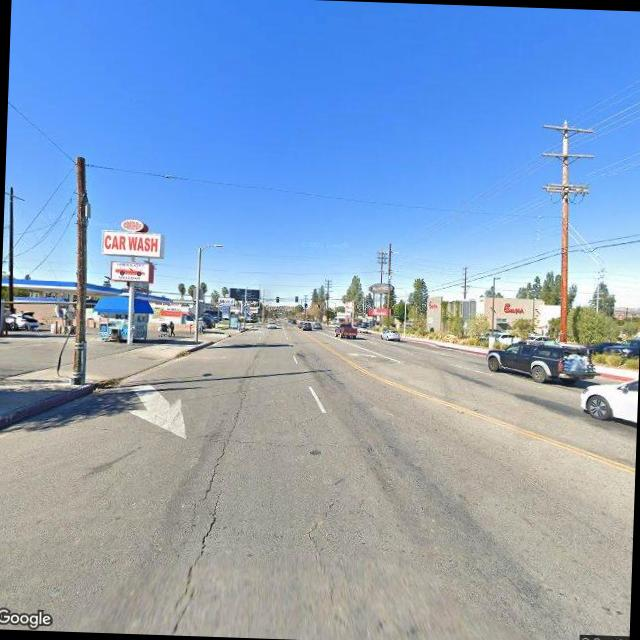pothole: (188, 390, 246, 550), (171, 483, 228, 636), (302, 489, 341, 556)
